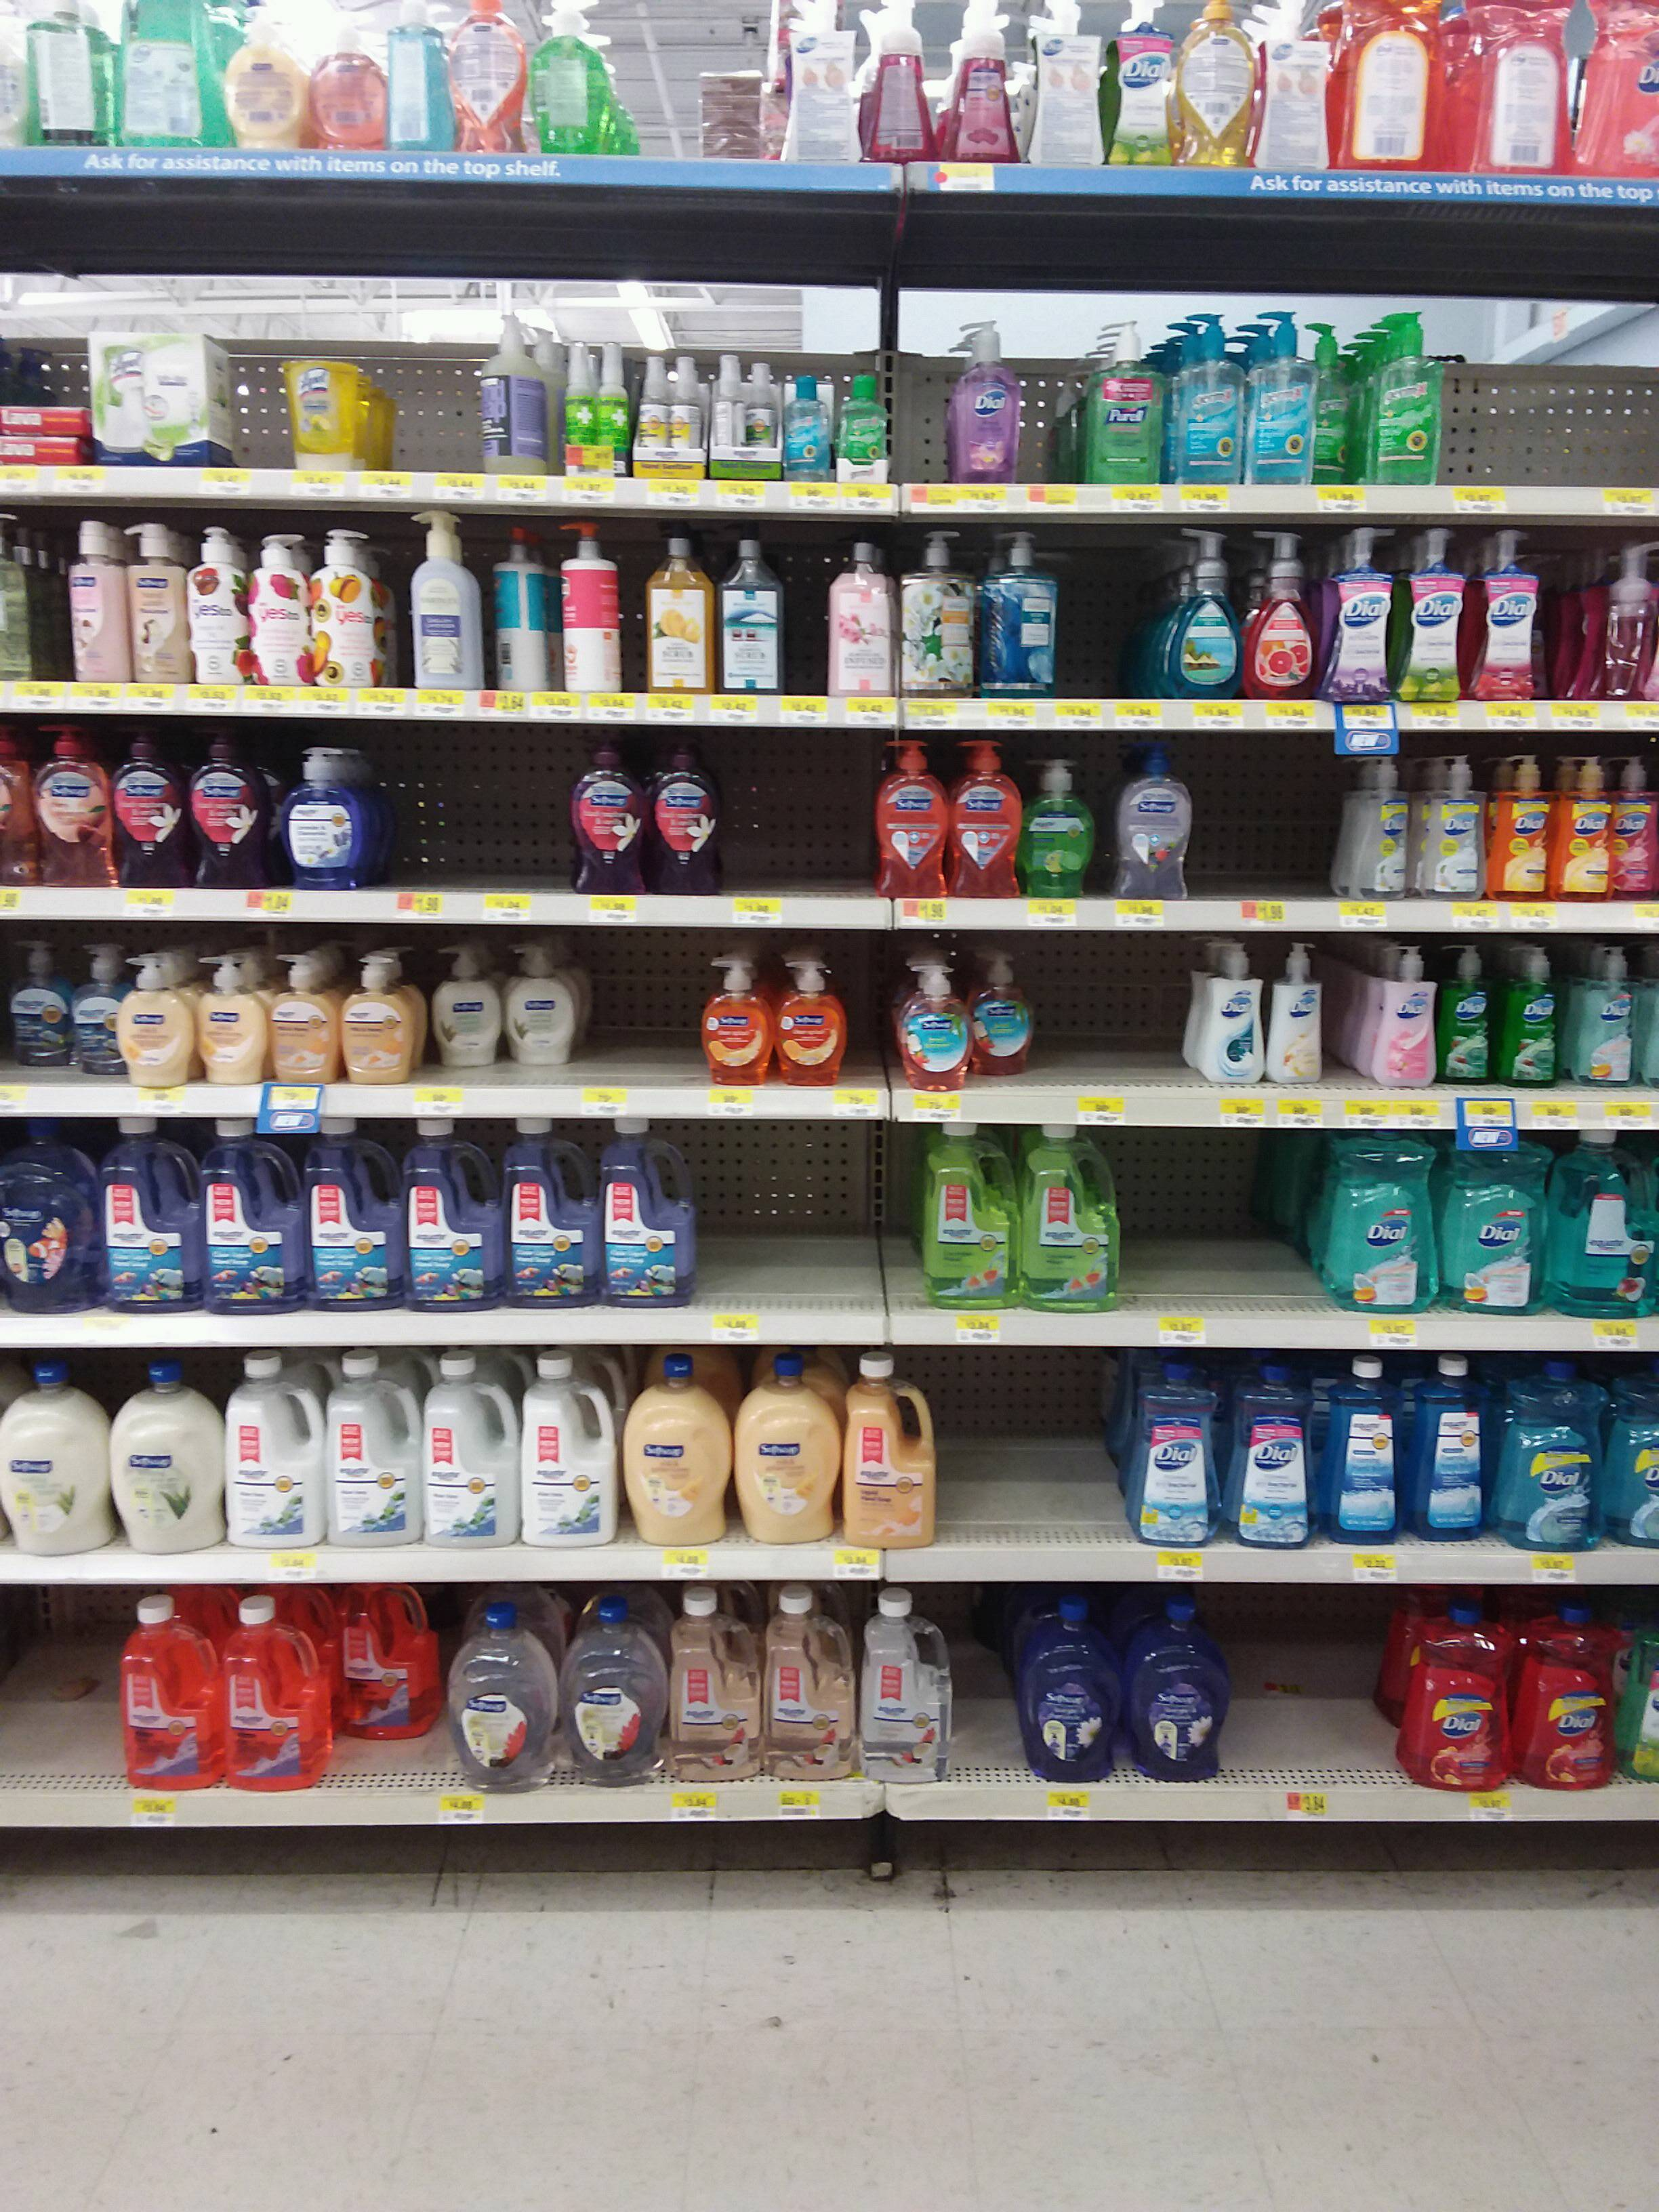Misplacement: (333, 1585, 451, 1791)
Out-of-stock: (1119, 1127, 1265, 1313)
